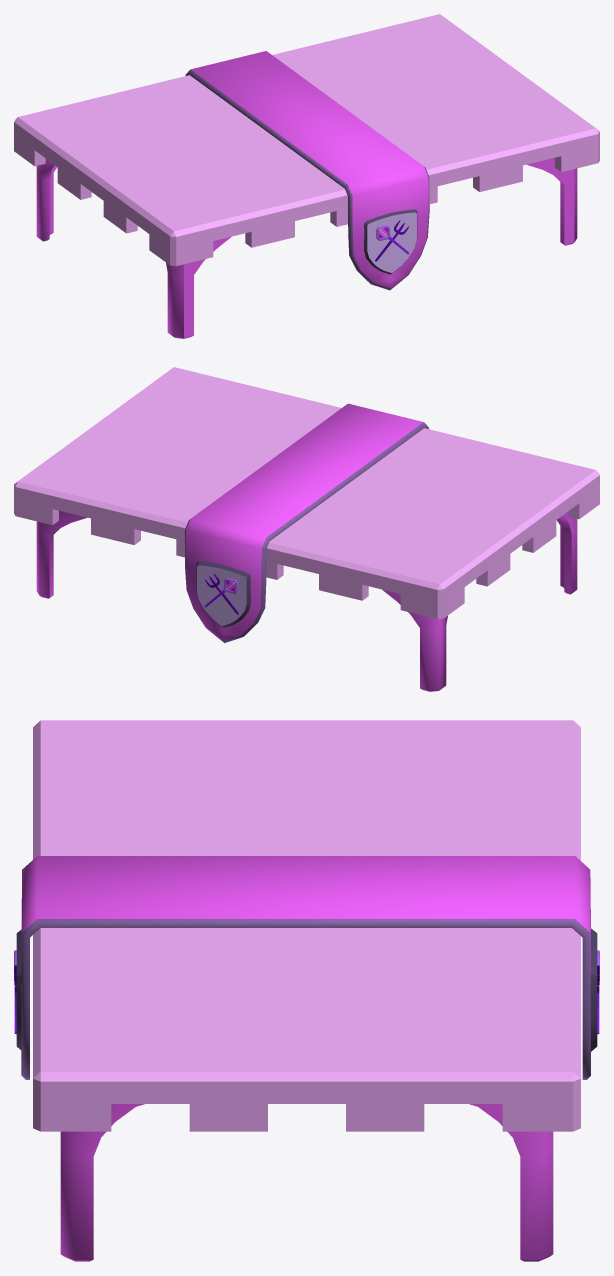
Rendered from WideTable.fbx.
3 views of the same model, one above another, from view 1: azimuth 30°, elevation 25°; view 2: azimuth 150°, elevation 25°; view 3: azimuth 270°, elevation 25° (orthographic). The views are drawn at different scales.
Visible parts, largest first — view 1: WideTable_LOD0; view 2: WideTable_LOD0; view 3: WideTable_LOD0.
Boxes of the visible parts, x1=… form: WideTable_LOD0: x1=14, y1=14, x2=599, y2=338; WideTable_LOD0: x1=14, y1=367, x2=599, y2=691; WideTable_LOD0: x1=14, y1=720, x2=599, y2=1261.
Size of what is drawn, in the model's own units: 503 by 136 by 348.
